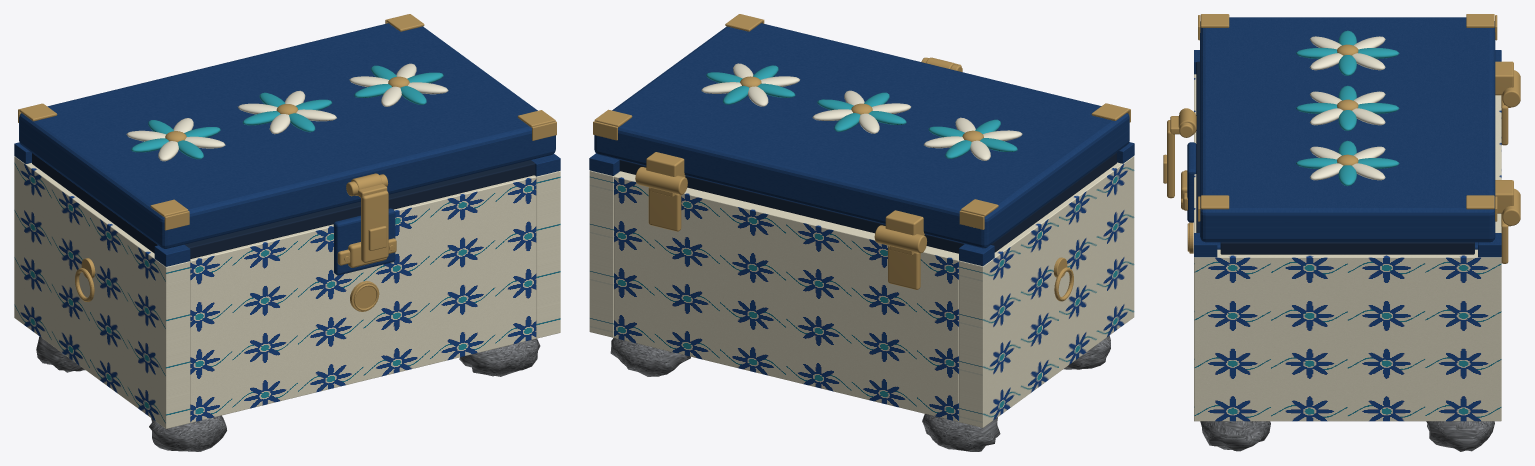
Rendered from pakistan.glb.
3 views of the same model, side by side, from view 1: azimuth 30°, elevation 25°; view 2: azimuth 150°, elevation 25°; view 3: azimuth 270°, elevation 25° (orthographic).
Parts seen in each view (by area): view 1: Lid / polished slab, Ceramic / front rear skin, Ceramic / side skin, Mineral seam / long, Ceramic / side skin.001, Granite foot, Granite foot.002, Latch / lifting hasp, Cedar / clasp seat, Mineral seam / side, Granite foot.001, Cedar / rim corner (+1 smaller); view 2: Lid / polished slab, Ceramic / front rear skin.001, Ceramic / side skin, Ceramic / side skin.001, Mineral seam / long.001, Granite foot.001, Granite foot.003, Mineral seam / side, Hinge / fixed mount.001, Hinge / fixed mount, Hinge / fixed barrel.001, Hinge / fixed barrel (+5 smaller); view 3: Lid / polished slab, Ceramic / side skin.001, Mineral seam / side.001, Granite foot.002, Granite foot.003, Ceramic / front rear skin.001, Cedar / clasp seat, Mineral seam / long, Hinge / moving leaf, Latch / lifting hasp, Hinge / moving leaf.001, Cedar / rim corner.003 (+7 smaller).
Part boxes in pixels (x1,y1,x2,y2): Lid / polished slab: (19, 23, 555, 248); Ceramic / front rear skin: (190, 175, 536, 422); Ceramic / side skin: (14, 156, 190, 428); Mineral seam / long: (184, 160, 535, 258); Ceramic / side skin.001: (534, 171, 560, 338); Granite foot: (149, 415, 226, 451); Granite foot.002: (459, 338, 540, 376); Latch / lifting hasp: (361, 190, 388, 262); Cedar / clasp seat: (333, 208, 395, 275); Mineral seam / side: (32, 153, 157, 253); Granite foot.001: (36, 336, 85, 372); Cedar / rim corner: (154, 244, 190, 266); Lid / polished slab: (594, 23, 1129, 248); Ceramic / front rear skin.001: (614, 171, 958, 421); Ceramic / side skin: (959, 156, 1134, 427); Ceramic / side skin.001: (589, 170, 620, 337); Mineral seam / long.001: (619, 160, 964, 253); Granite foot.001: (922, 414, 1000, 451); Granite foot.003: (610, 338, 690, 376); Mineral seam / side: (991, 153, 1116, 252); Hinge / fixed mount.001: (648, 187, 681, 231); Hinge / fixed mount: (888, 245, 920, 289); Hinge / fixed barrel.001: (635, 167, 687, 194); Hinge / fixed barrel: (874, 225, 927, 253); Lid / polished slab: (1200, 17, 1495, 242); Ceramic / side skin.001: (1194, 249, 1501, 421); Mineral seam / side.001: (1220, 242, 1474, 254); Granite foot.002: (1200, 421, 1270, 451); Granite foot.003: (1426, 421, 1494, 451); Ceramic / front rear skin.001: (1495, 95, 1501, 232); Cedar / clasp seat: (1187, 142, 1196, 222); Mineral seam / long: (1196, 61, 1199, 232); Hinge / moving leaf: (1495, 61, 1513, 95); Latch / lifting hasp: (1167, 120, 1174, 198); Hinge / moving leaf.001: (1495, 180, 1513, 213); Cedar / rim corner.003: (1478, 233, 1501, 257).
Bounding box in the file's own units: 3.79 × 2.39 × 2.88.
Materials: 7 (3 with a texture image).
